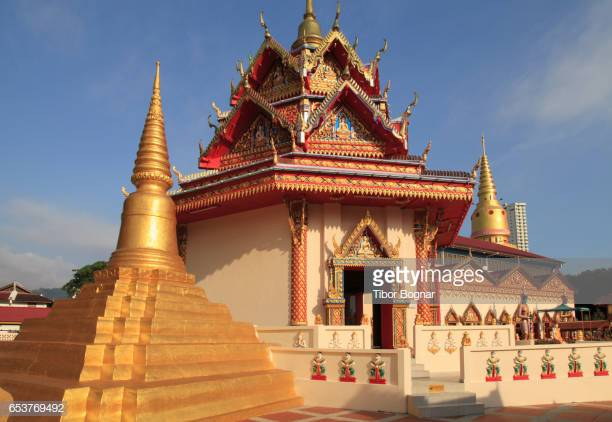Buddhist Temple: (102, 7, 513, 378)
